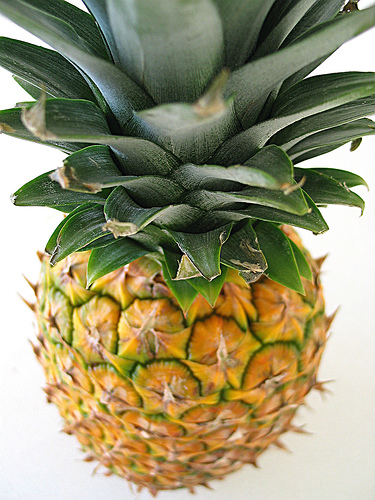pineapple: (0, 0, 373, 498)
